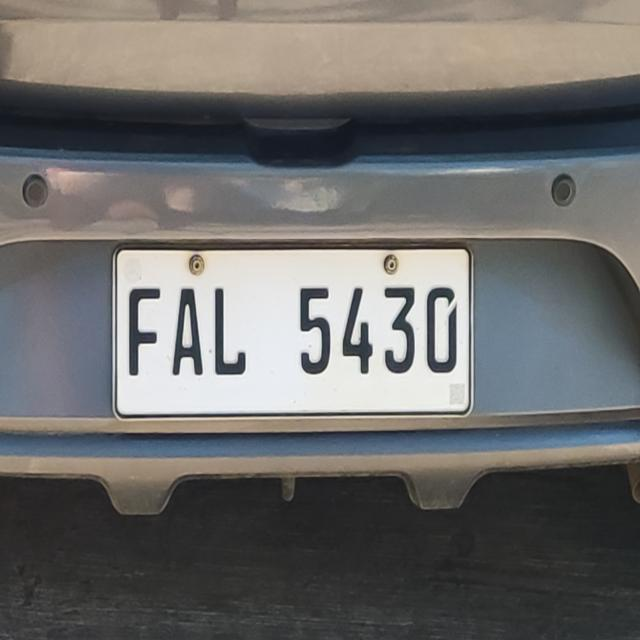LicensePlate: (104, 232, 483, 434)
